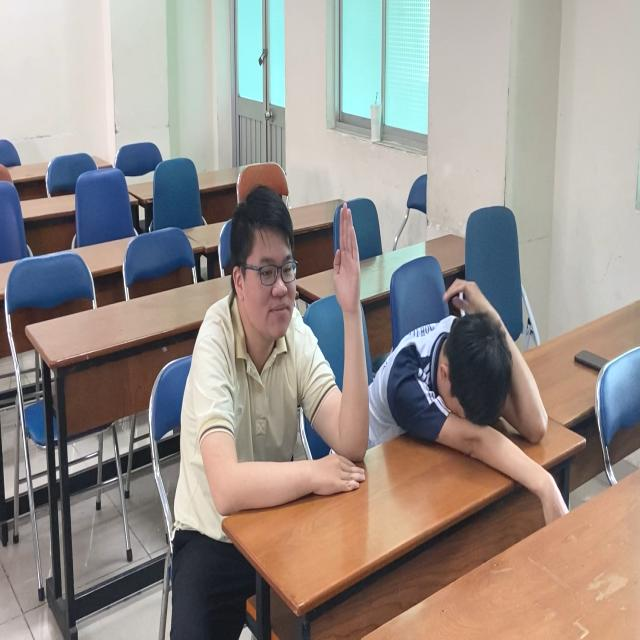raise_hand: (170, 180, 372, 546)
sleep: (365, 283, 555, 486)
